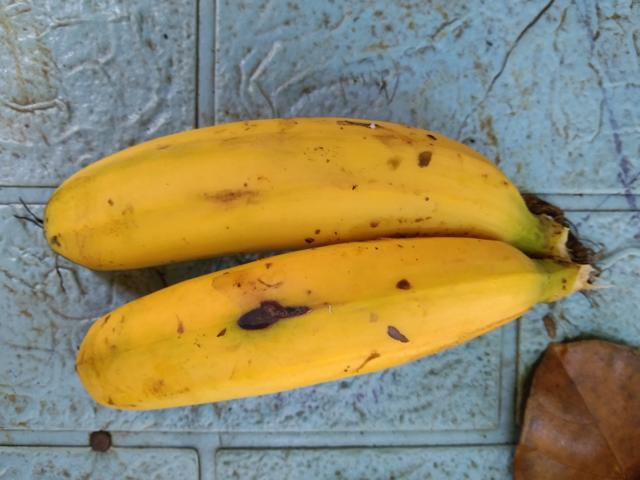freshripe: (38, 100, 509, 235)
ripe: (59, 228, 560, 460)
